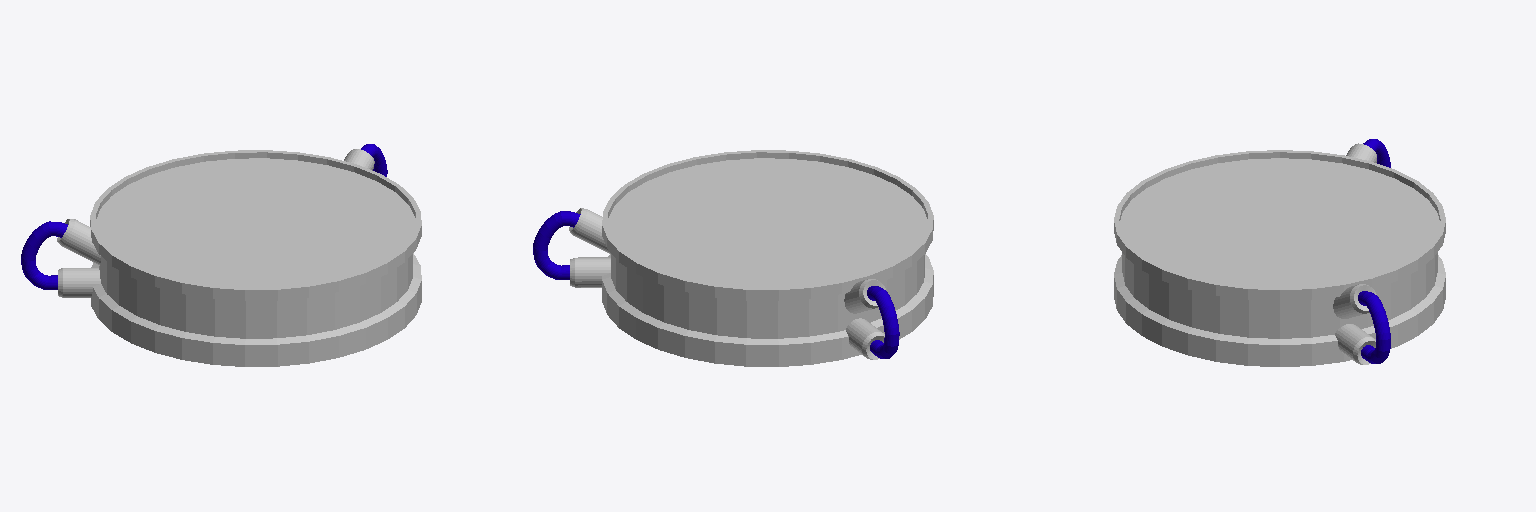
The model's file is PodiumObjTest.obj.
3 views of the same model, side by side, from view 1: azimuth 30°, elevation 25°; view 2: azimuth 150°, elevation 25°; view 3: azimuth 270°, elevation 25° (orthographic).
Parts seen in each view (by area): view 1: Podium_studio_Game_model; view 2: Podium_studio_Game_model; view 3: Podium_studio_Game_model.
Boxes of the visible parts, <box> form: Podium_studio_Game_model: <box>21,144,421,366</box>; Podium_studio_Game_model: <box>533,150,933,366</box>; Podium_studio_Game_model: <box>1114,139,1445,366</box>.
Bounding box in the file's own units: 2.35 × 0.5071 × 1.85.